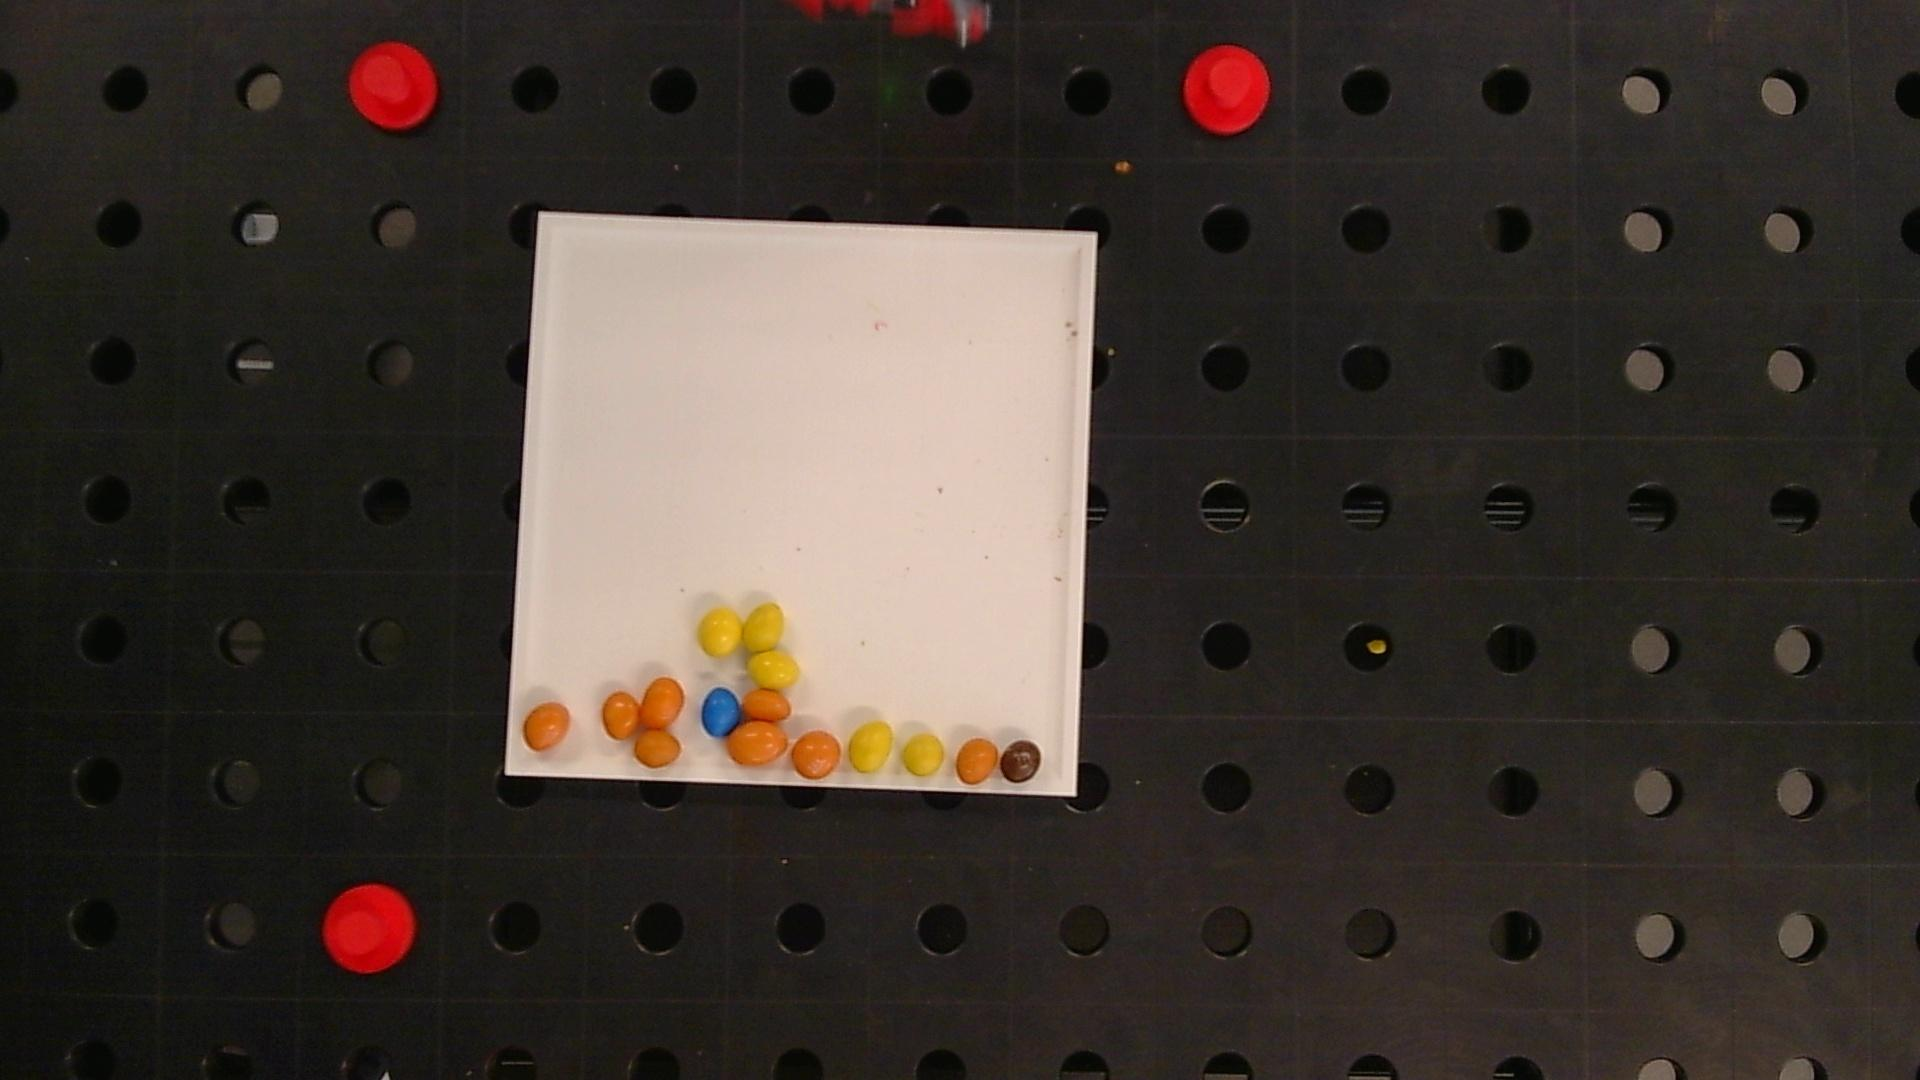blue: (702, 687, 741, 736)
brown: (1000, 740, 1042, 782)
orange: (727, 721, 789, 765), (791, 731, 841, 779), (640, 676, 683, 729), (524, 703, 570, 749), (956, 737, 1000, 783), (603, 691, 640, 738), (634, 731, 680, 767), (741, 690, 791, 721)
yellow: (848, 720, 893, 773), (699, 608, 741, 655), (742, 603, 783, 651), (750, 651, 799, 690), (902, 733, 945, 775)
